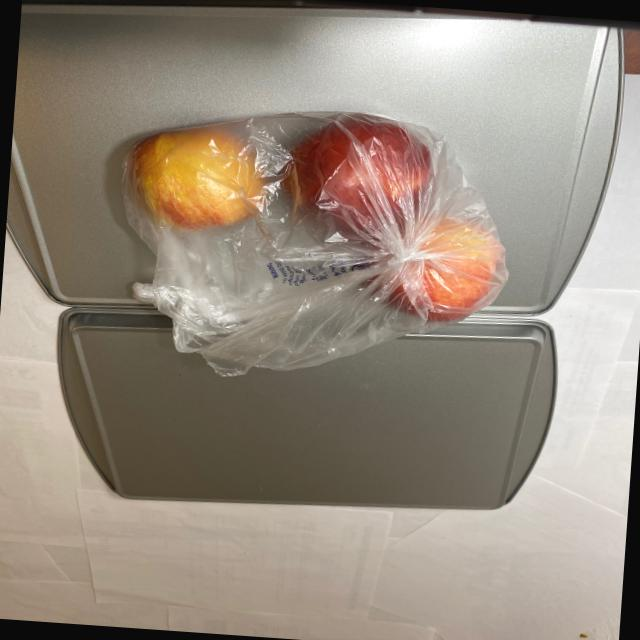apple: (109, 100, 526, 332)
